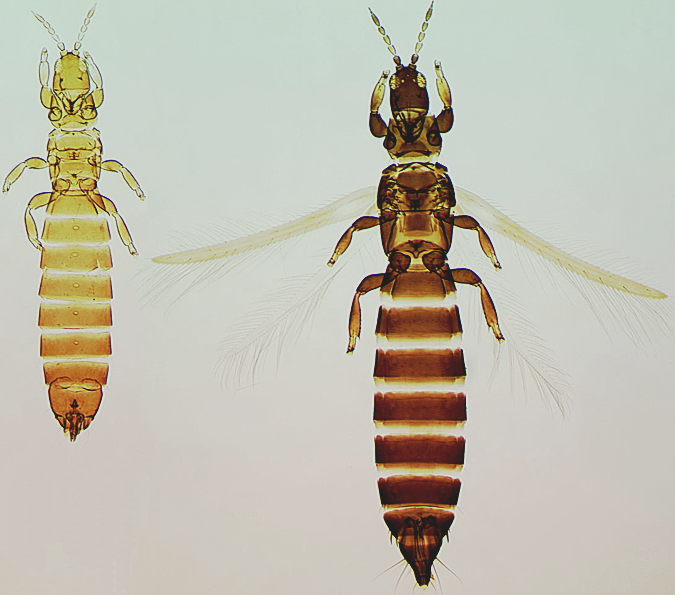Thripidae: (147, 1, 675, 585), (2, 1, 148, 449)
